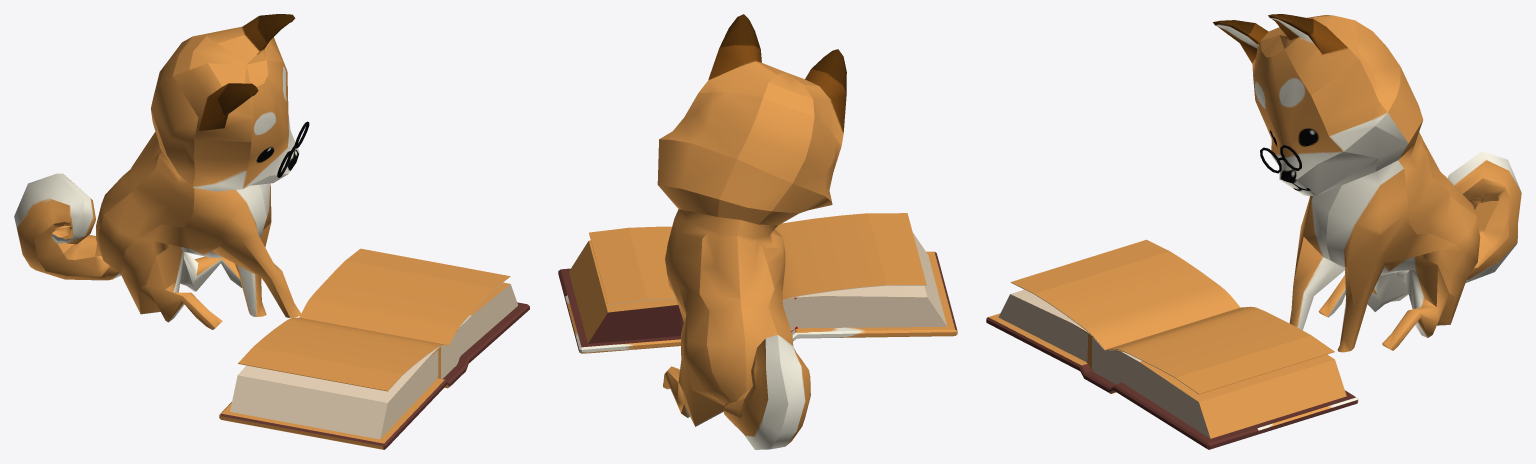
The model's file is book_frame27.obj.
The picture shows the model from 3 angles, left to right: view 1: azimuth 30°, elevation 25°; view 2: azimuth 150°, elevation 25°; view 3: azimuth 270°, elevation 25°; orthographic projection. The views are drawn at different scales.
Visible parts, largest first — view 1: StidyGlasses_Computer_Sitting:Sitting:newRigging:BodzL1, polySurface1; view 2: StidyGlasses_Computer_Sitting:Sitting:newRigging:BodzL1, polySurface1; view 3: StidyGlasses_Computer_Sitting:Sitting:newRigging:BodzL1, polySurface1.
Part boxes in pixels (<box>): StidyGlasses_Computer_Sitting:Sitting:newRigging:BodzL1: <box>14,14,300,329</box>; polySurface1: <box>219,248,529,449</box>; StidyGlasses_Computer_Sitting:Sitting:newRigging:BodzL1: <box>657,14,846,449</box>; polySurface1: <box>558,213,957,353</box>; StidyGlasses_Computer_Sitting:Sitting:newRigging:BodzL1: <box>1213,14,1521,352</box>; polySurface1: <box>986,239,1358,449</box>.
Size of the model in its own units: 9.18 by 7.61 by 11.02.
4 materials, 4 textured.
